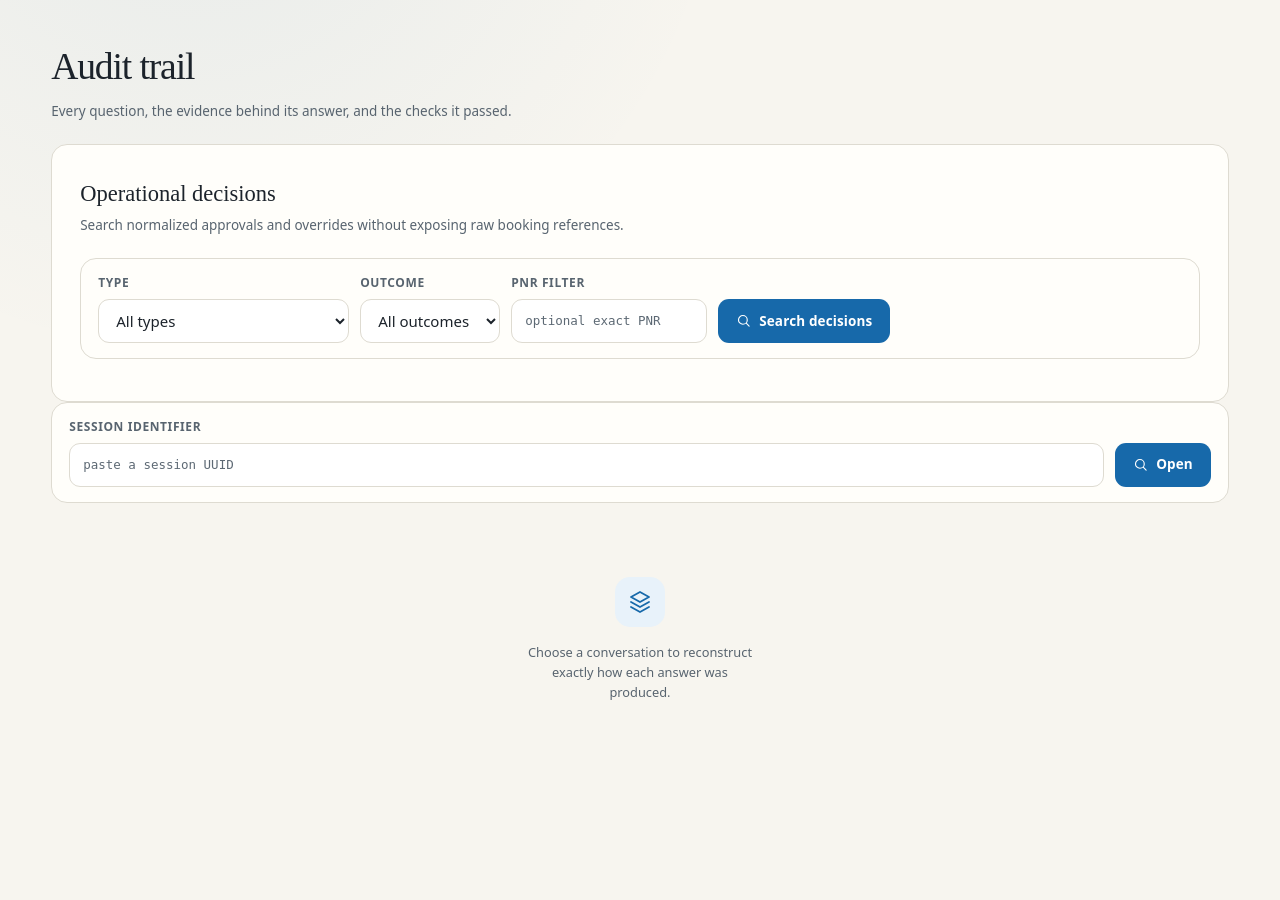
Scenario: AuditExplorer › filters and renders normalized operational decisions
Step 1. Select "Refund approval" in the dropdown labelled "Type" → [224, 321], box [98, 299, 349, 343]
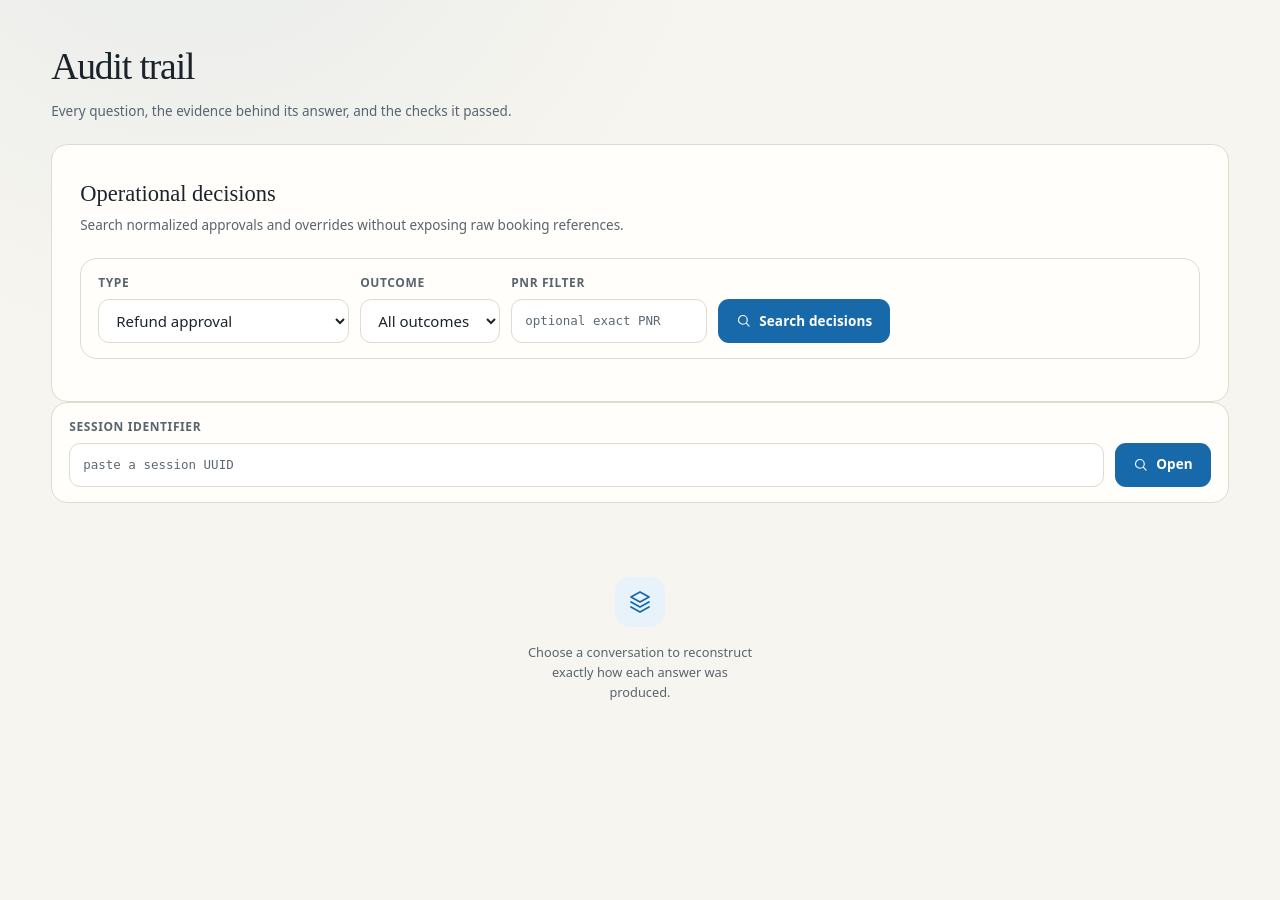
Step 2. Select "Approved" in the dropdown labelled "Outcome" → [430, 321], box [360, 299, 500, 343]
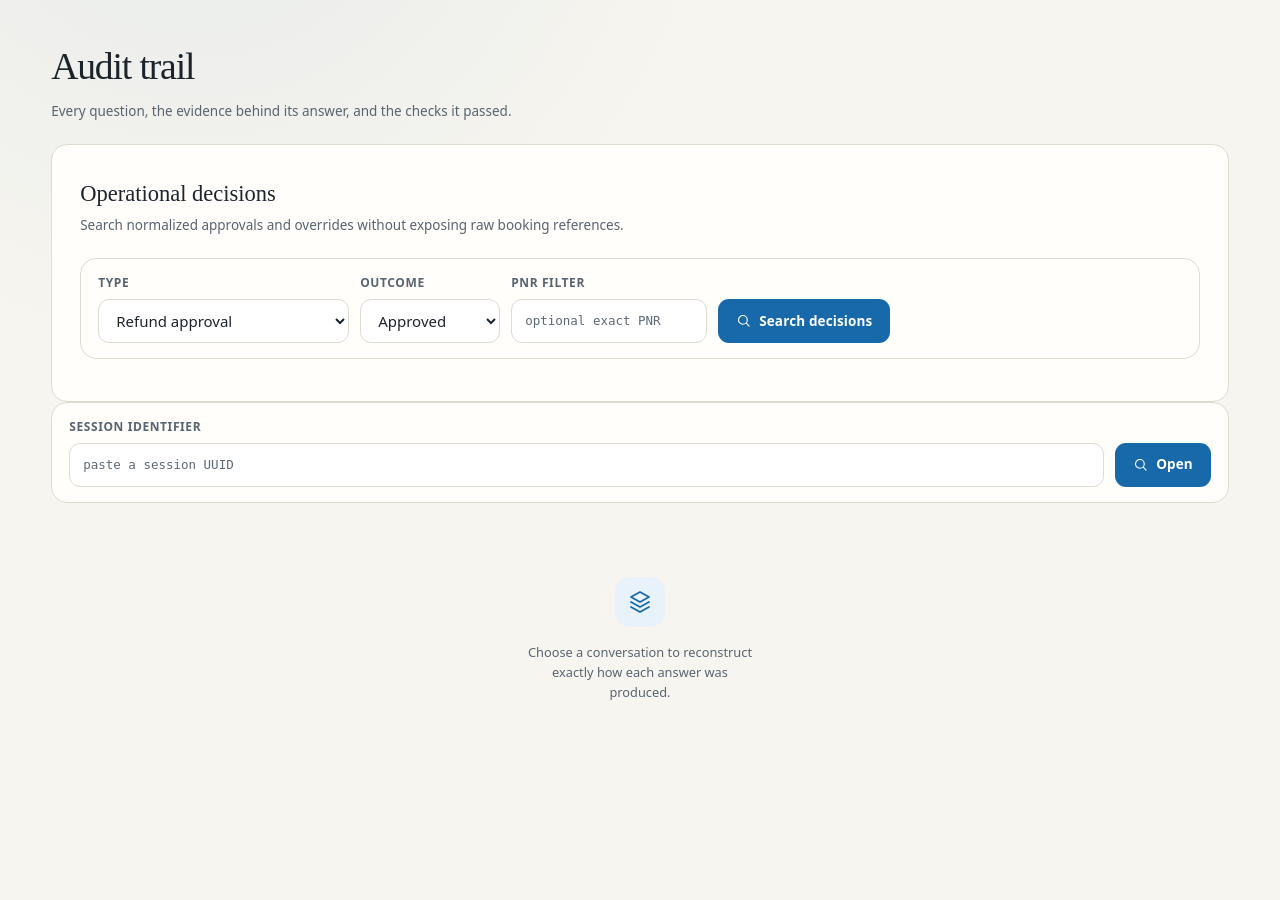
Step 3. Click the button "Search decisions" → [804, 321], box [718, 299, 890, 343]
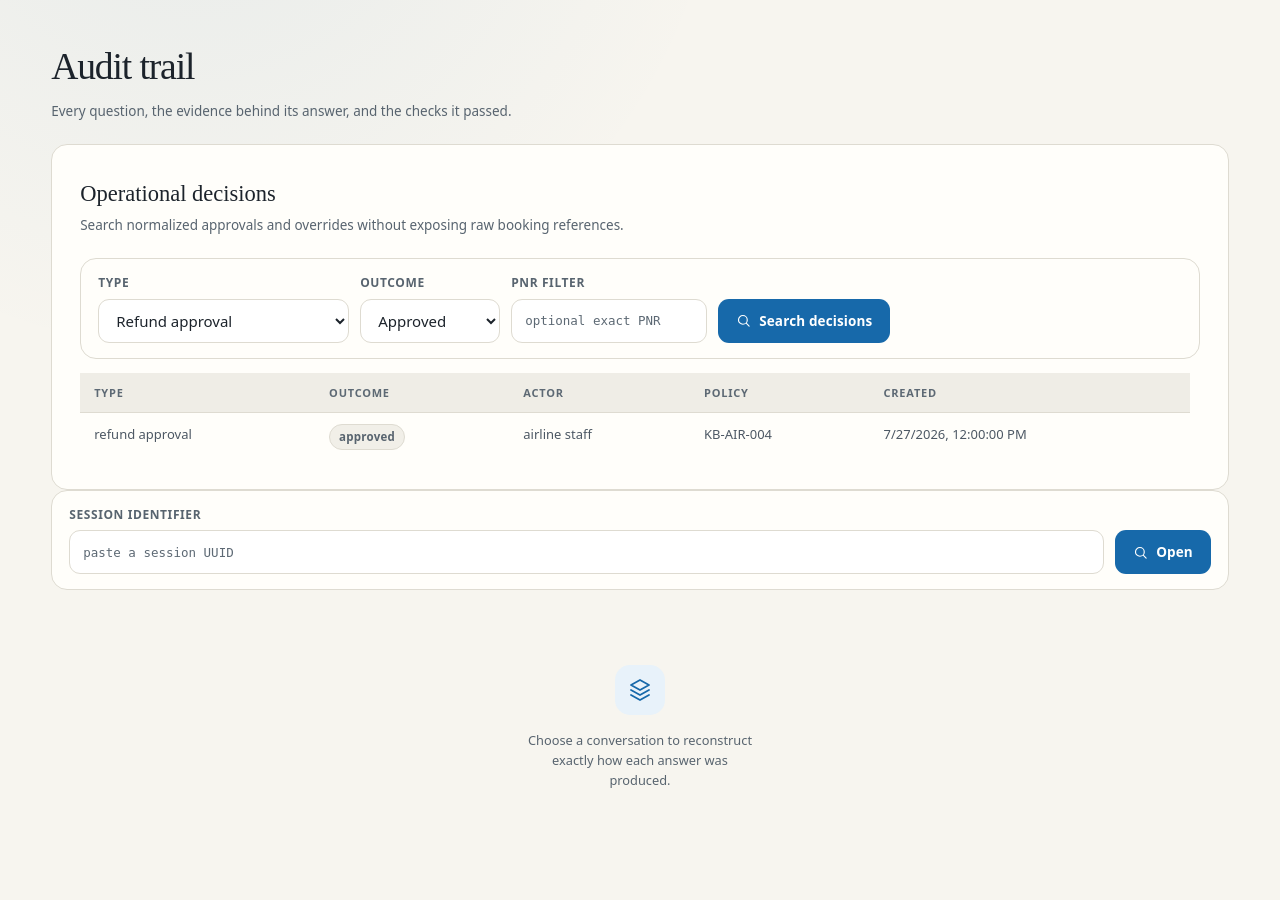
Now the text "refund approval" is shown, box [80, 412, 315, 461]
Now the text "KB-AIR-004" is shown, box [690, 412, 870, 461]
Now the element named "Operational decision results" is shown, box [80, 373, 1200, 461]
